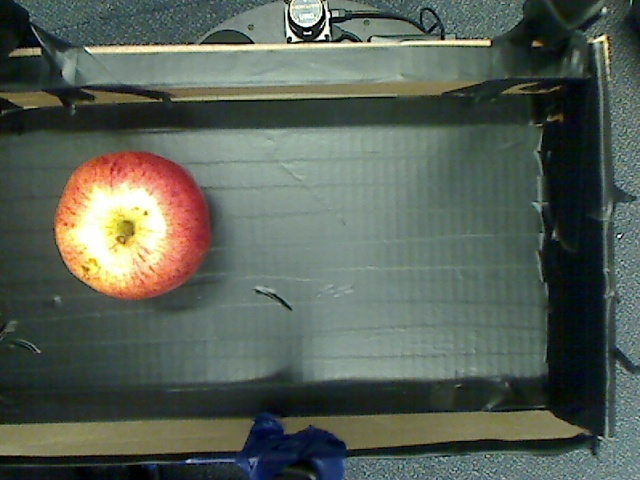apple: (40, 142, 220, 305)
